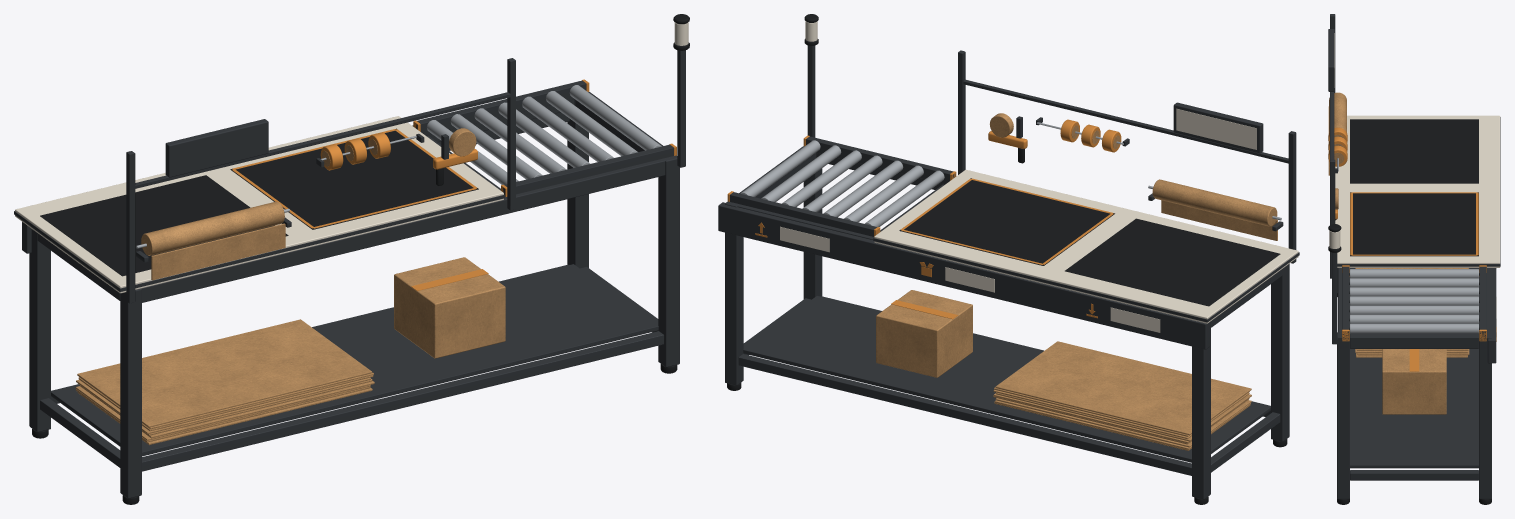
The model's file is Packtisch01.fbx.
3 views of the same model, side by side, from view 1: azimuth 30°, elevation 25°; view 2: azimuth 150°, elevation 25°; view 3: azimuth 270°, elevation 25° (orthographic). The views are drawn at different scales.
Visible parts, largest first — view 1: Packtisch01__SteelDark, Packtisch01__Cardboard, Packtisch01__Black, Packtisch01__WallWhite, Packtisch01__BareSteel, Packtisch01__SafetyOrange; view 2: Packtisch01__SteelDark, Packtisch01__Cardboard, Packtisch01__Black, Packtisch01__WallWhite, Packtisch01__BareSteel, Packtisch01__SafetyOrange; view 3: Packtisch01__SteelDark, Packtisch01__Black, Packtisch01__BareSteel, Packtisch01__WallWhite, Packtisch01__Cardboard, Packtisch01__SafetyOrange.
Boxes of the visible parts, <box> form: Packtisch01__SteelDark: <box>14,50,685,498</box>; Packtisch01__Cardboard: <box>75,128,505,444</box>; Packtisch01__Black: <box>32,14,689,504</box>; Packtisch01__WallWhite: <box>15,116,503,293</box>; Packtisch01__BareSteel: <box>136,85,661,248</box>; Packtisch01__SafetyOrange: <box>232,79,676,291</box>; Packtisch01__SteelDark: <box>718,45,1299,499</box>; Packtisch01__Cardboard: <box>876,113,1277,450</box>; Packtisch01__Black: <box>727,14,1287,504</box>; Packtisch01__WallWhite: <box>780,108,1298,332</box>; Packtisch01__BareSteel: <box>741,122,1281,226</box>; Packtisch01__SafetyOrange: <box>727,119,1121,319</box>; Packtisch01__SteelDark: <box>1328,14,1500,499</box>; Packtisch01__Black: <box>1328,119,1491,504</box>; Packtisch01__BareSteel: <box>1337,158,1478,333</box>; Packtisch01__WallWhite: <box>1334,33,1500,326</box>; Packtisch01__Cardboard: <box>1328,92,1469,414</box>; Packtisch01__SafetyOrange: <box>1328,127,1496,371</box>.
Size of the model in its own units: 239 by 143 by 80.
6 materials, 1 textured.
